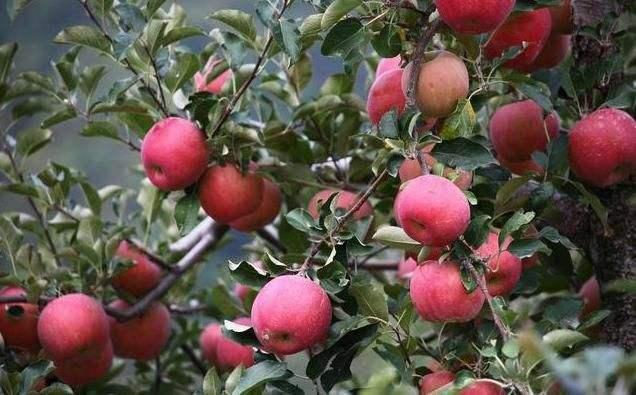apple: (250, 274, 331, 357), (566, 106, 635, 187), (394, 173, 469, 245), (488, 100, 561, 173), (139, 116, 208, 192), (37, 291, 107, 365), (407, 259, 485, 323), (400, 51, 468, 118), (366, 69, 435, 132), (195, 161, 265, 223), (106, 295, 172, 356), (431, 1, 514, 39)
